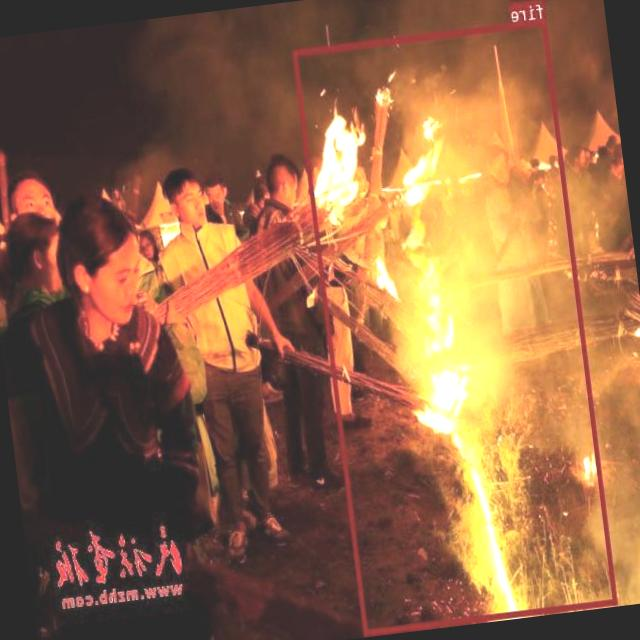fire: (293, 17, 618, 634)
